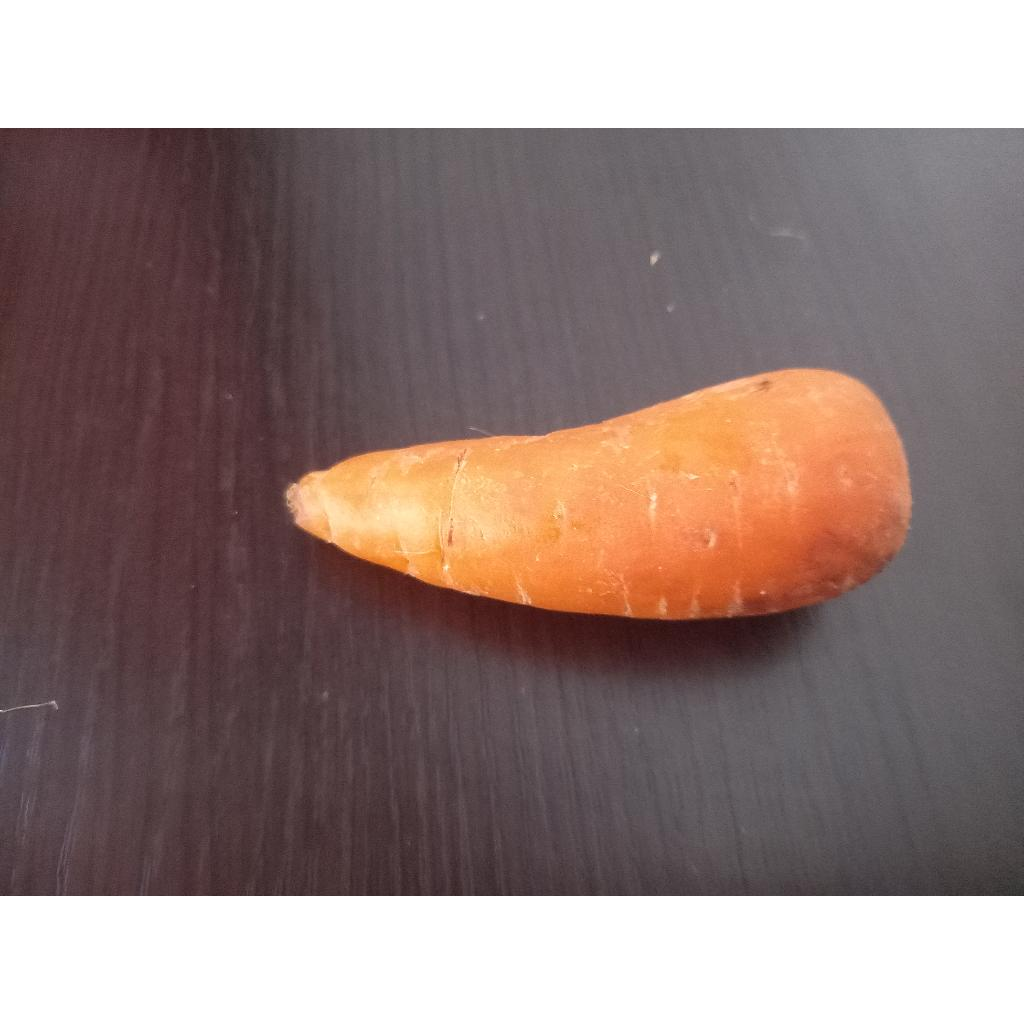carrot: (288, 370, 910, 620)
